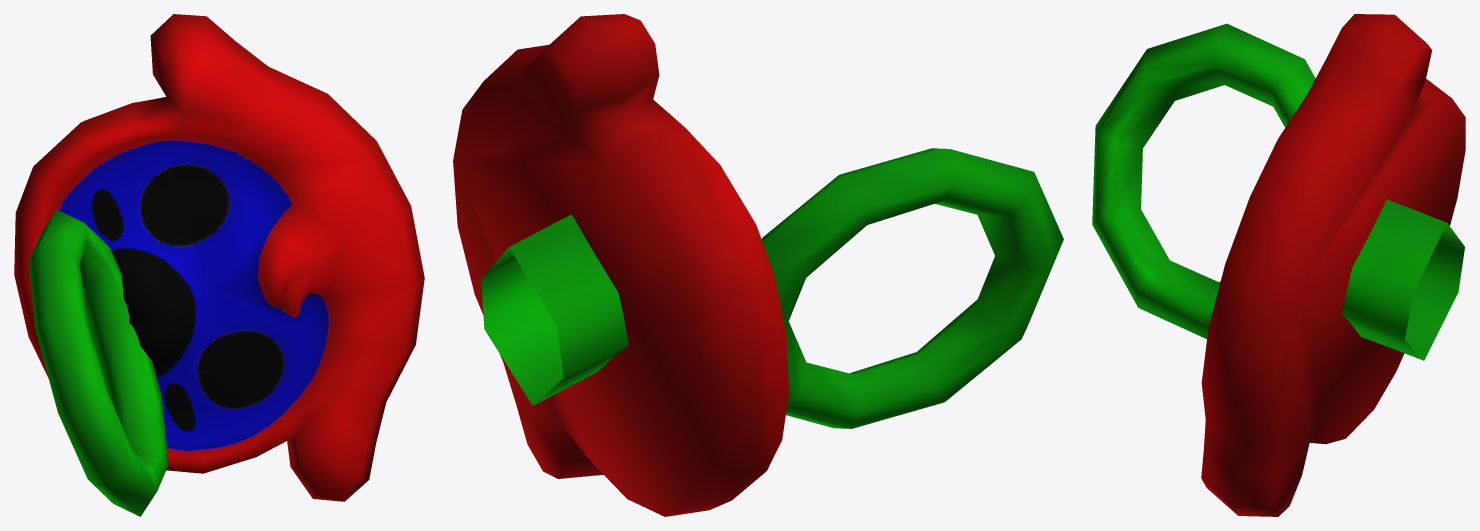
3 views of the same model, side by side, from view 1: azimuth 30°, elevation 25°; view 2: azimuth 150°, elevation 25°; view 3: azimuth 270°, elevation 25° (orthographic). The views are drawn at different scales.
Parts seen in each view (by area): view 1: K1217; view 2: K1217; view 3: K1217.
Part boxes in pixels (left/top/right/bottom): K1217: left=14, top=14, right=424, bottom=516; K1217: left=453, top=14, right=1063, bottom=516; K1217: left=1092, top=14, right=1465, bottom=516.
Size of the model in its own units: 0.2519 by 0.2538 by 0.1886.
